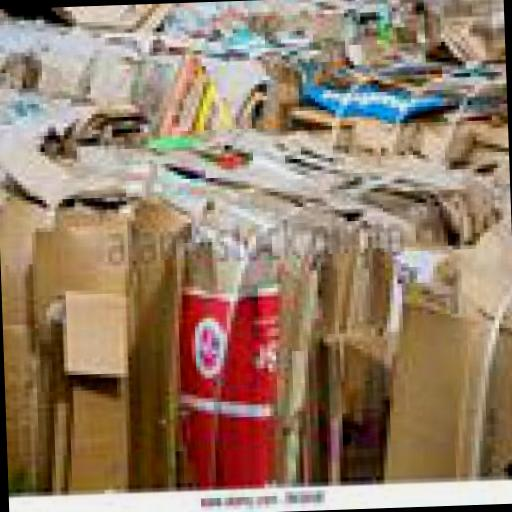cardboard: (144, 124, 488, 487), (0, 134, 164, 491), (371, 215, 512, 479), (284, 43, 506, 175), (80, 46, 288, 158)
